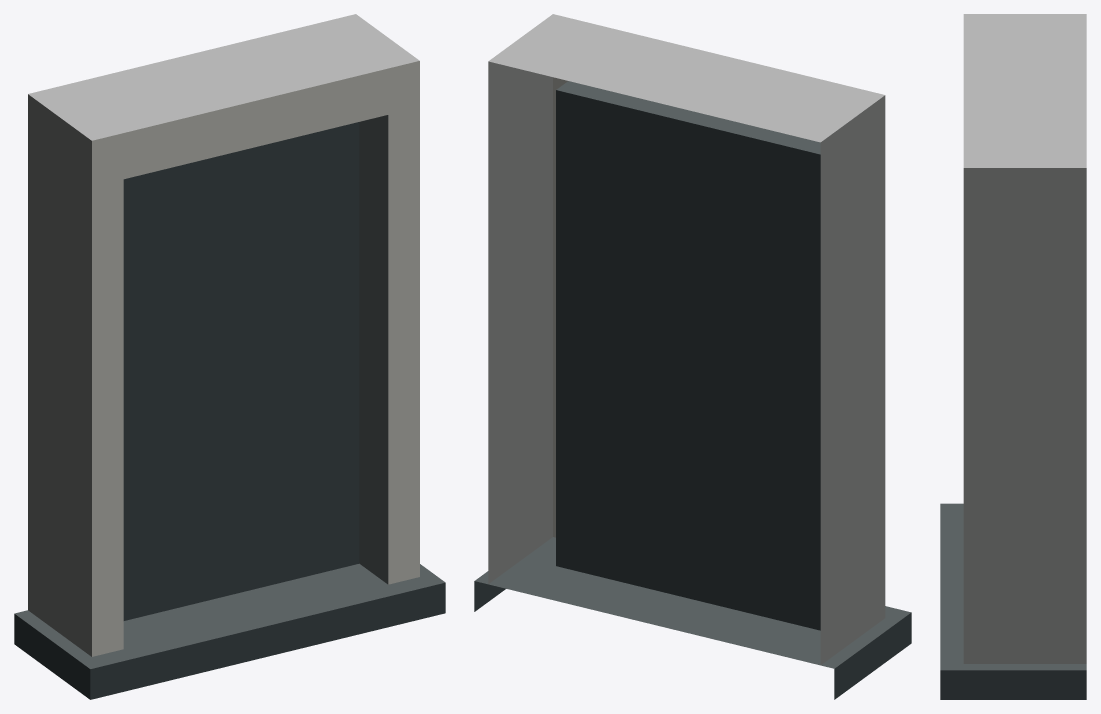
File: TB_CITY_BD_Door_A.FBX
3 renders of one model, left to right at view 1: azimuth 30°, elevation 25°; view 2: azimuth 150°, elevation 25°; view 3: azimuth 270°, elevation 25°, orthographic. The views are drawn at different scales.
Visible parts, largest first — view 1: TB_CITY_BD_Door_A; view 2: TB_CITY_BD_Door_A; view 3: TB_CITY_BD_Door_A.
Part boxes in pixels (x1,y1,x2,y2): TB_CITY_BD_Door_A: [14, 14, 445, 699]; TB_CITY_BD_Door_A: [474, 14, 911, 699]; TB_CITY_BD_Door_A: [940, 14, 1086, 699].
Size of the model in its own units: 3.33 by 4.9 by 1.24.
